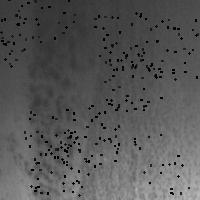pitted_surface: (85, 3, 188, 195), (21, 2, 92, 196), (29, 135, 87, 194), (104, 52, 160, 111), (94, 12, 151, 69), (64, 105, 118, 165), (134, 134, 188, 193), (24, 111, 76, 167), (155, 19, 200, 78), (18, 0, 74, 41), (0, 0, 35, 50), (0, 9, 16, 65)
